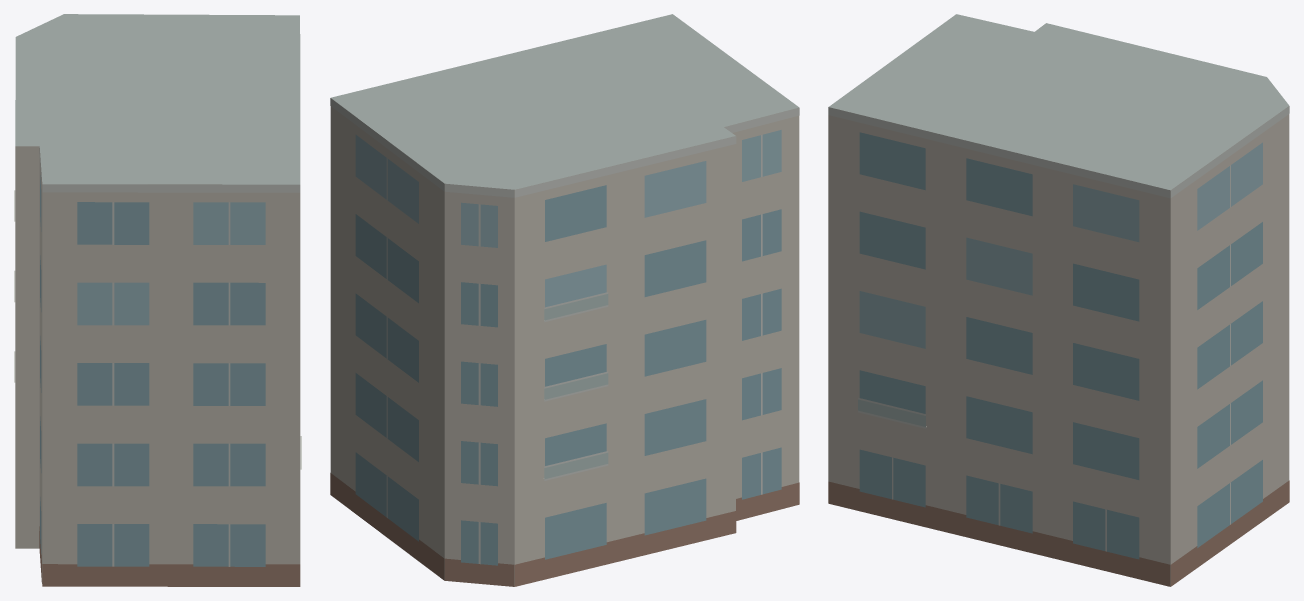
File: survey-upis-33015514.glb
3 renders of one model, left to right at view 1: azimuth 30°, elevation 25°; view 2: azimuth 150°, elevation 25°; view 3: azimuth 270°, elevation 25°, orthographic.
Visible parts, largest first — view 1: survey-upis-33015514.tmp; view 2: survey-upis-33015514.tmp; view 3: survey-upis-33015514.tmp.
Part boxes in pixels (box(x1,y1,x2,y2)): survey-upis-33015514.tmp: box(14, 14, 301, 586); survey-upis-33015514.tmp: box(330, 14, 799, 586); survey-upis-33015514.tmp: box(828, 14, 1289, 586).
Bounding box in the file's own units: 11.5 × 12.05 × 12.71.
